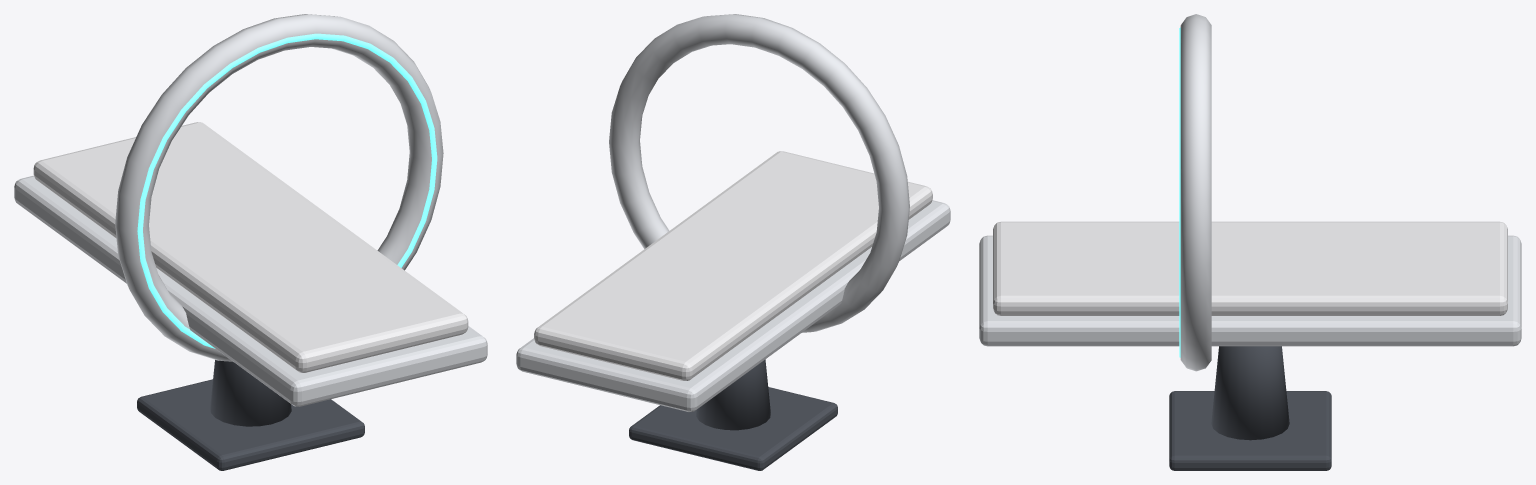
Rendered from medbay_bed_scanner_bed.glb.
The picture shows the model from 3 angles, left to right: view 1: azimuth 30°, elevation 25°; view 2: azimuth 150°, elevation 25°; view 3: azimuth 270°, elevation 25°; orthographic projection. The views are drawn at different scales.
Visible parts, largest first — view 1: GD_medbay_bed_scanner_bed__m1, GD_medbay_bed_scanner_bed__m0, GD_medbay_bed_scanner_bed__m2, GD_medbay_bed_scanner_bed__m3; view 2: GD_medbay_bed_scanner_bed__m1, GD_medbay_bed_scanner_bed__m0, GD_medbay_bed_scanner_bed__m2; view 3: GD_medbay_bed_scanner_bed__m1, GD_medbay_bed_scanner_bed__m0, GD_medbay_bed_scanner_bed__m2, GD_medbay_bed_scanner_bed__m3.
Boxes of the visible parts, x1=… form: GD_medbay_bed_scanner_bed__m1: x1=33, y1=122, x2=468, y2=372; GD_medbay_bed_scanner_bed__m0: x1=14, y1=14, x2=487, y2=406; GD_medbay_bed_scanner_bed__m2: x1=137, y1=360, x2=364, y2=470; GD_medbay_bed_scanner_bed__m3: x1=137, y1=33, x2=437, y2=348; GD_medbay_bed_scanner_bed__m1: x1=534, y1=151, x2=932, y2=380; GD_medbay_bed_scanner_bed__m0: x1=516, y1=14, x2=950, y2=411; GD_medbay_bed_scanner_bed__m2: x1=629, y1=359, x2=837, y2=470; GD_medbay_bed_scanner_bed__m1: x1=993, y1=221, x2=1507, y2=315; GD_medbay_bed_scanner_bed__m0: x1=979, y1=14, x2=1521, y2=371; GD_medbay_bed_scanner_bed__m2: x1=1169, y1=346, x2=1331, y2=470; GD_medbay_bed_scanner_bed__m3: x1=1179, y1=27, x2=1180, y2=357.
Bounding box in the file's own units: 1.32 × 1.66 × 2.
